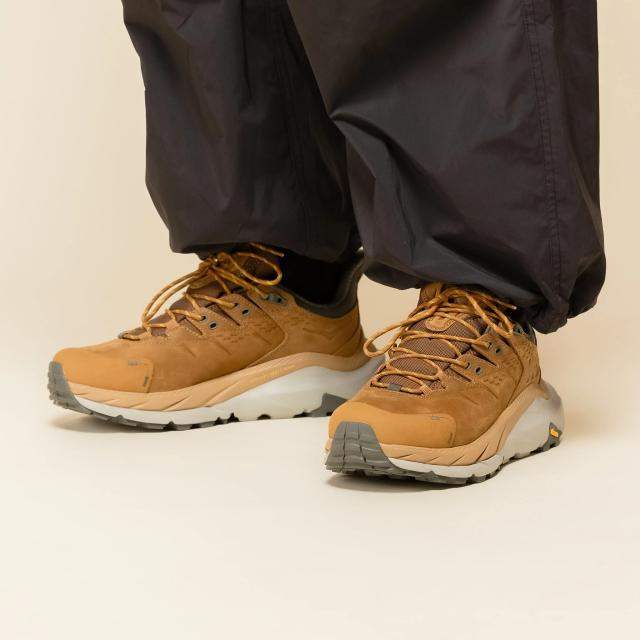shoe: (41, 235, 388, 439), (316, 274, 571, 493)
